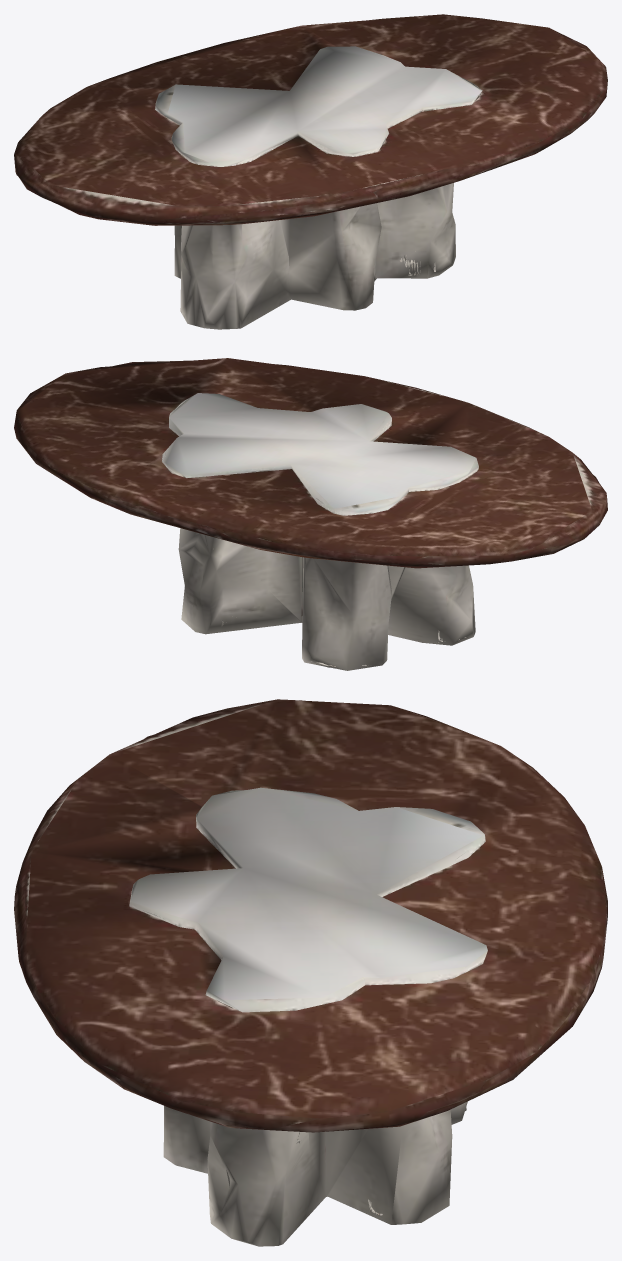
The model's file is F02fjCk60nNcg_oQQOX_W.glb.
3 renders of one model, top to bottom at view 1: azimuth 30°, elevation 25°; view 2: azimuth 150°, elevation 25°; view 3: azimuth 270°, elevation 25°, orthographic. The views are drawn at different scales.
Parts seen in each view (by area): view 1: geometry_0; view 2: geometry_0; view 3: geometry_0.
Boxes of the visible parts, x1,y1,x2,y2 form: geometry_0: (14, 14, 607, 329); geometry_0: (14, 358, 607, 670); geometry_0: (14, 699, 607, 1246).
Bounding box in the file's own units: 1 × 0.2902 × 0.6023.
Materials: 1 (1 with a texture image).
